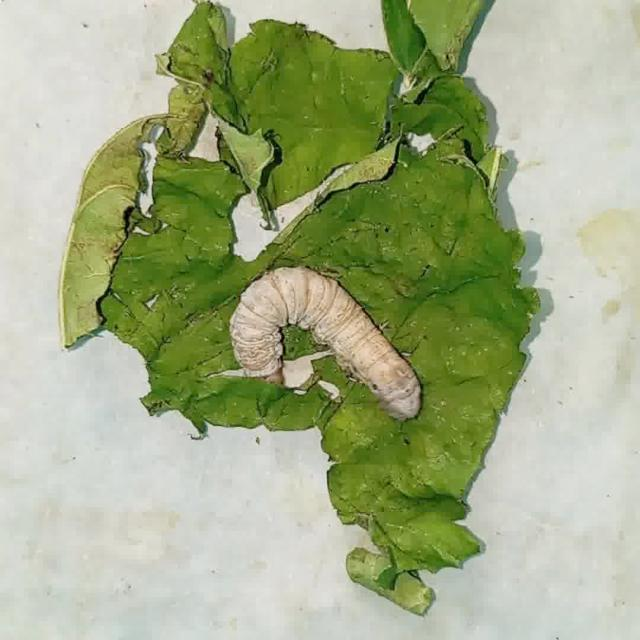Grasserie: (212, 235, 455, 448)
